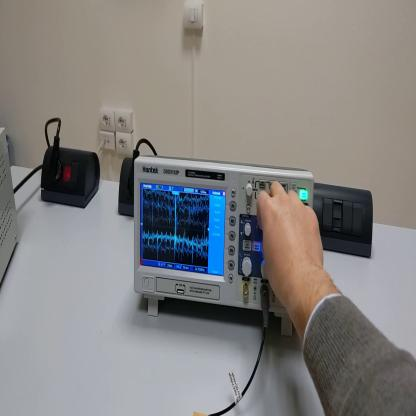hand: (258, 180, 328, 310)
oscilloscope: (134, 154, 314, 337)
power supply: (2, 129, 21, 304)
socket: (41, 146, 101, 210), (118, 158, 132, 214)
